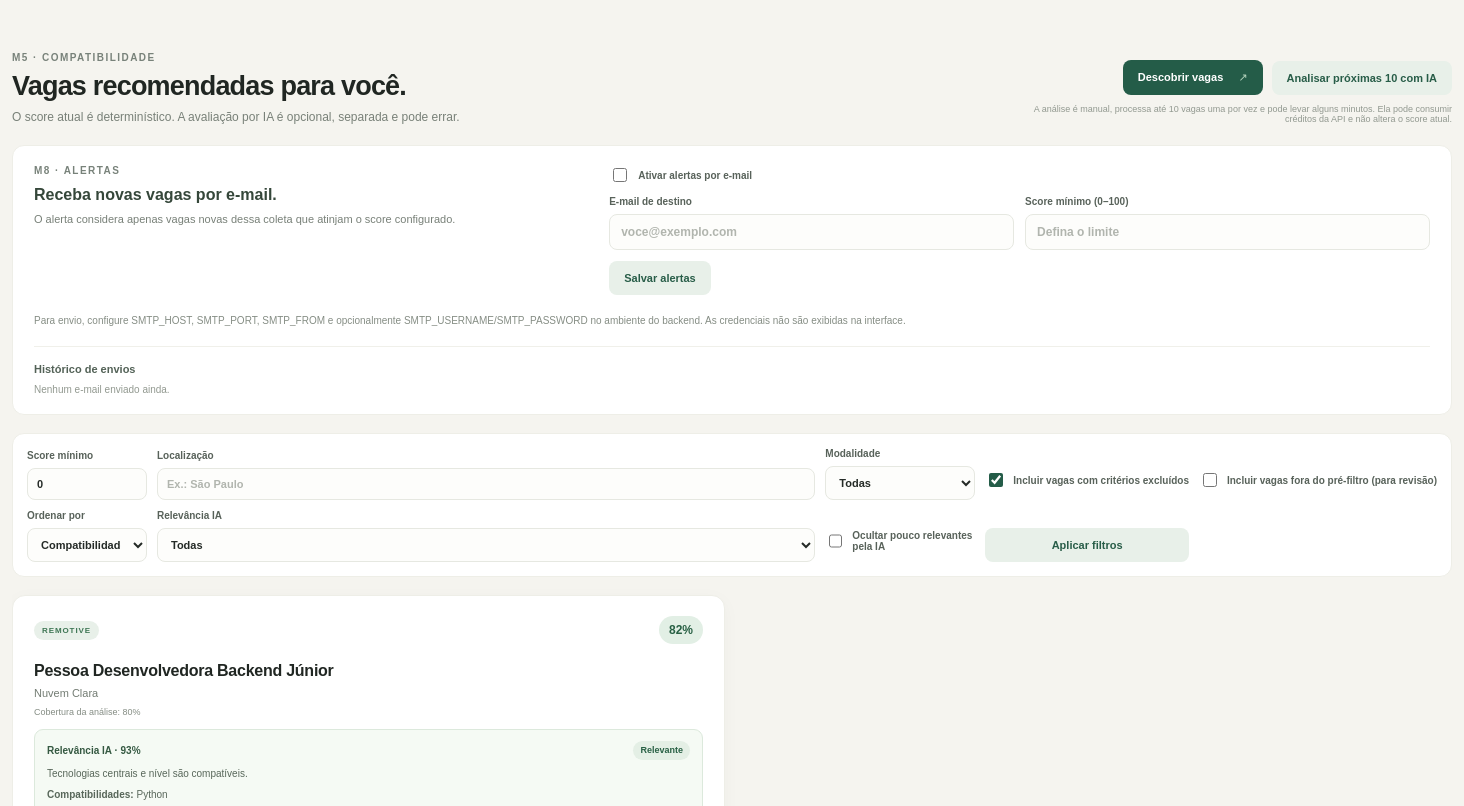
Test: recomendações de vagas M5 › aciona a descoberta Remotive e mostra o resultado
This screenshot has width=1464, height=806.
Check: the heading "Pessoa Desenvolvedora Backend Júnior" is shown, box [34,660,334,682]
Click the button "Descobrir vagas ↗" at (1193, 78), box [1123,60,1263,95]
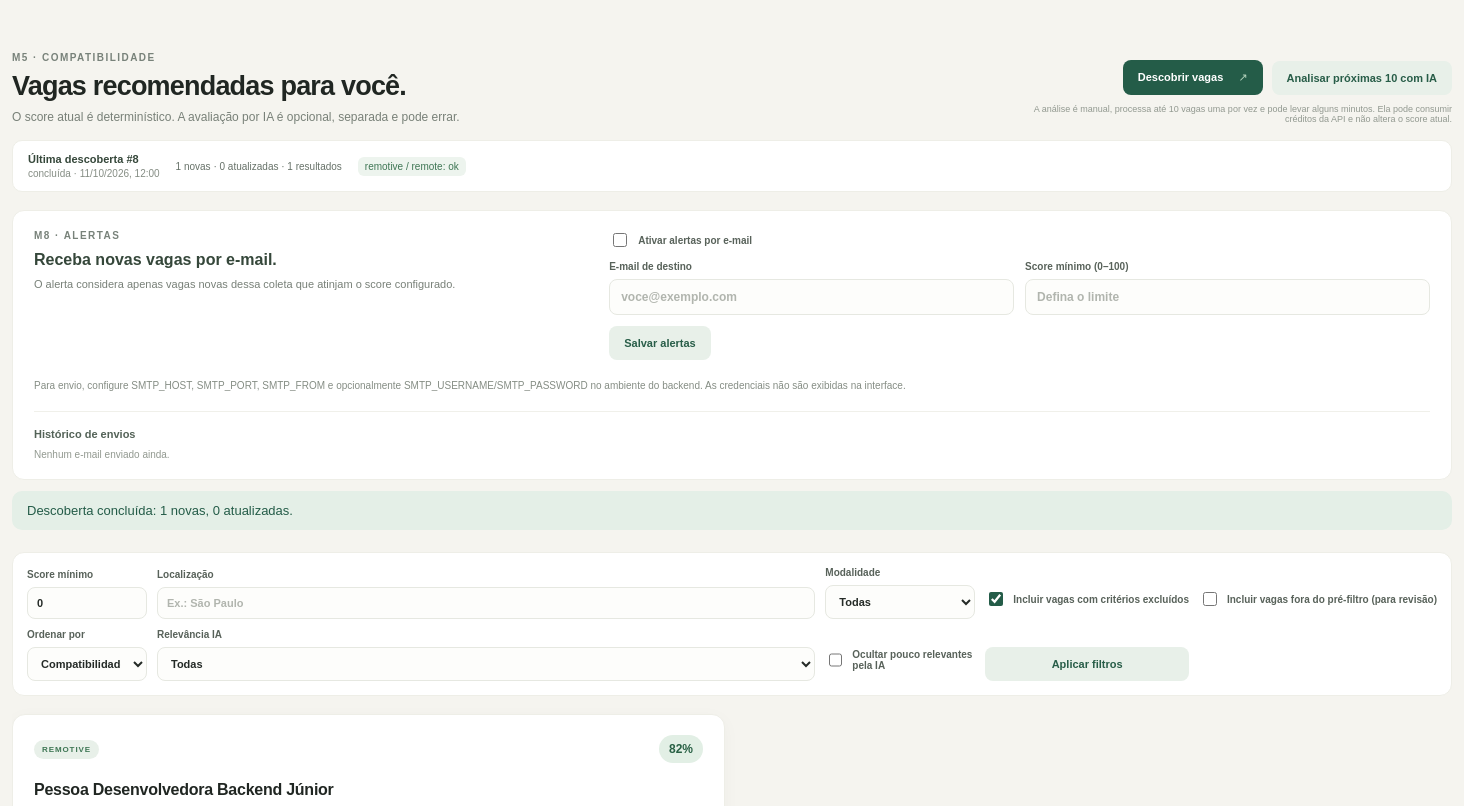
Check: the message reads "Descoberta concluída: 1 novas, 0 atualizadas.", box [27,503,293,518]
